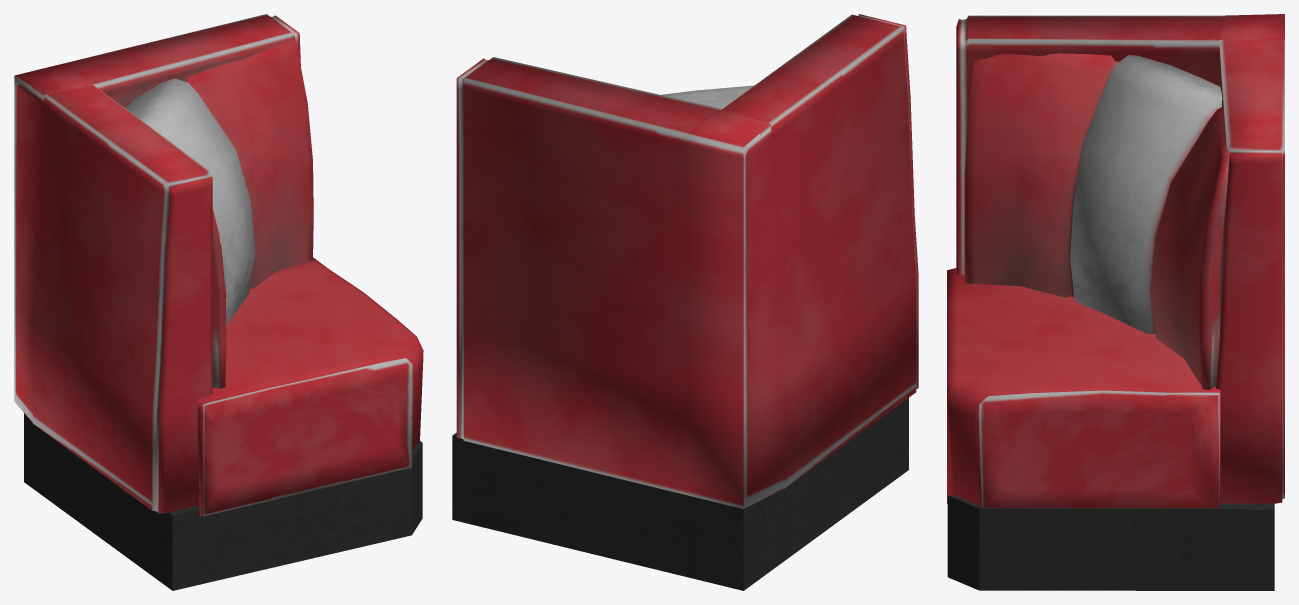
Rendered from TMM_BoothCorner.fbx.
The picture shows the model from 3 angles, left to right: view 1: azimuth 30°, elevation 25°; view 2: azimuth 150°, elevation 25°; view 3: azimuth 270°, elevation 25°; orthographic projection. The views are drawn at different scales.
Visible parts, largest first — view 1: TMM_BoothCorner; view 2: TMM_BoothCorner; view 3: TMM_BoothCorner.
Boxes of the visible parts, x1,y1,x2,y2 form: TMM_BoothCorner: (14, 14, 423, 590); TMM_BoothCorner: (452, 14, 918, 590); TMM_BoothCorner: (947, 14, 1284, 590).
Size of the model in its own units: 114 by 160 by 112.
